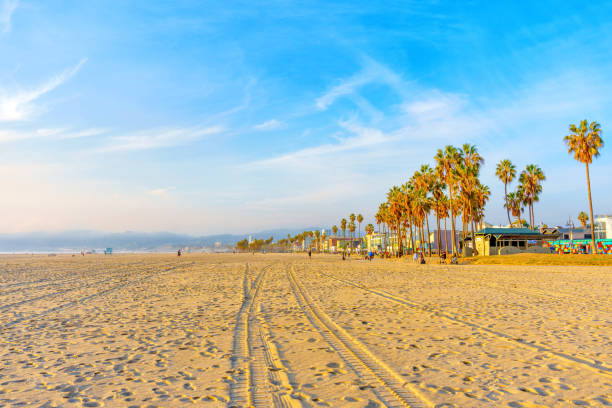vehicle_track: (319, 272, 611, 376), (286, 265, 431, 407), (0, 262, 194, 329), (229, 264, 271, 407), (256, 304, 308, 407), (0, 274, 121, 311), (0, 276, 82, 296)
